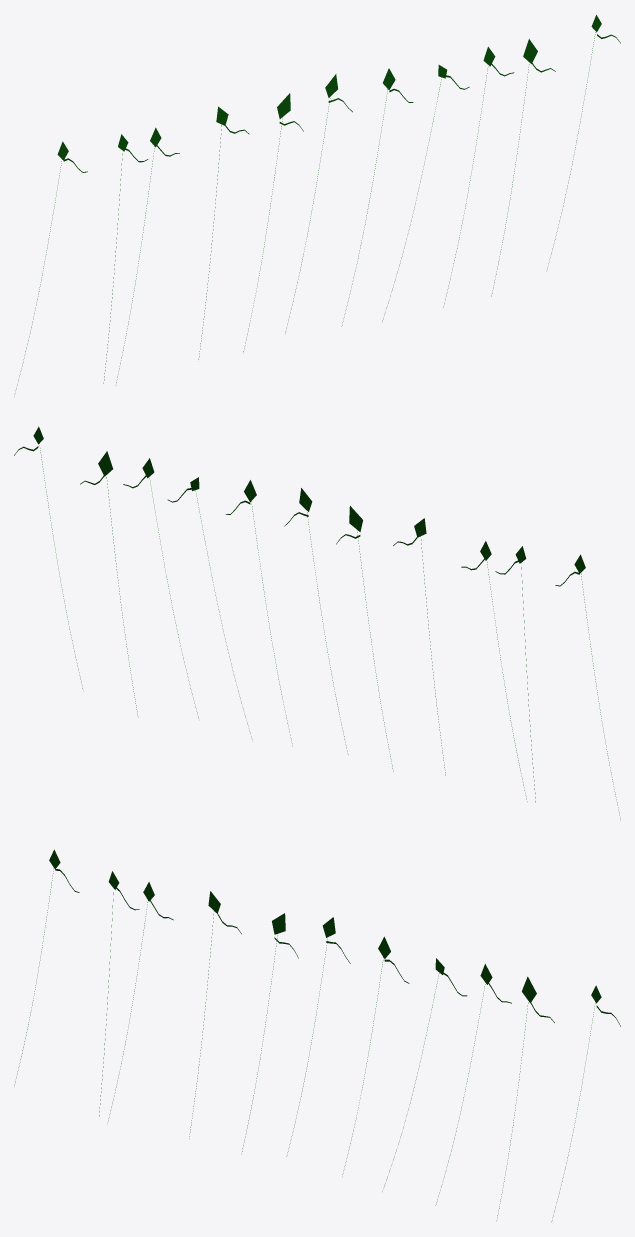
The model's file is kite_line_high.glb.
The picture shows the model from 3 angles, top to bottom: view 1: azimuth 30°, elevation 25°; view 2: azimuth 150°, elevation 25°; view 3: azimuth 330°, elevation 25°; orthographic projection.
Visible parts, largest first — view 1: kite_line_high; view 2: kite_line_high; view 3: kite_line_high.
Part boxes in pixels (<box>): kite_line_high: <box>14,15,620,394</box>; kite_line_high: <box>14,426,620,820</box>; kite_line_high: <box>14,849,620,1221</box>.
Size of what is drawn, in the model's own units: 39.95 by 16.73 by 0.7732.
